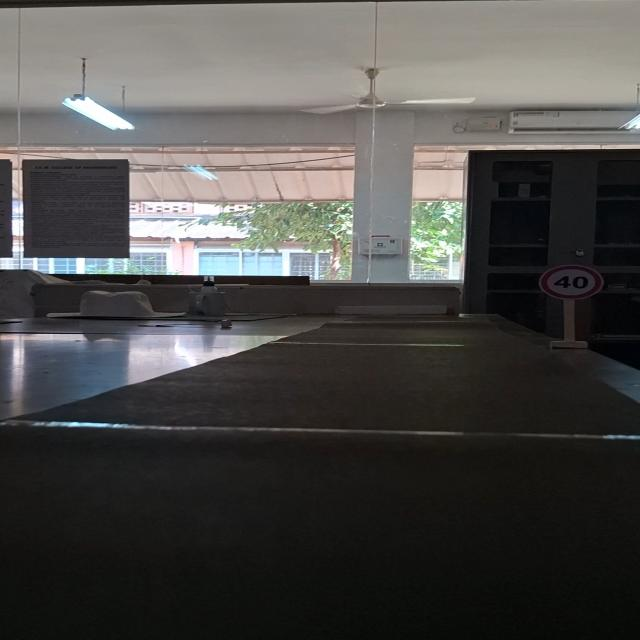Speed40: (537, 263, 606, 302)
